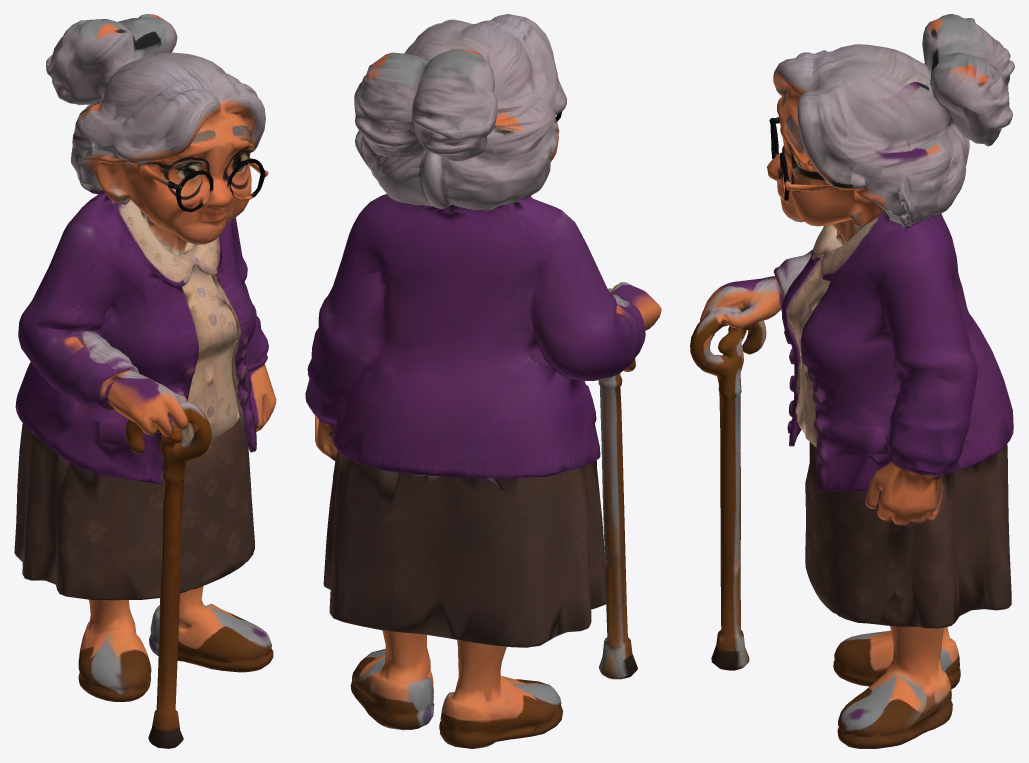
The model's file is abuela.glb.
3 renders of one model, left to right at view 1: azimuth 30°, elevation 25°; view 2: azimuth 150°, elevation 25°; view 3: azimuth 270°, elevation 25°, orthographic. The views are drawn at different scales.
Visible parts, largest first — view 1: tripo_node_8e51a7fc-c925-461b-a8a4-e979ae04d4a0; view 2: tripo_node_8e51a7fc-c925-461b-a8a4-e979ae04d4a0; view 3: tripo_node_8e51a7fc-c925-461b-a8a4-e979ae04d4a0.
Boxes of the visible parts, x1,y1,x2,y2 form: tripo_node_8e51a7fc-c925-461b-a8a4-e979ae04d4a0: [14, 14, 276, 748]; tripo_node_8e51a7fc-c925-461b-a8a4-e979ae04d4a0: [305, 14, 661, 748]; tripo_node_8e51a7fc-c925-461b-a8a4-e979ae04d4a0: [690, 14, 1014, 748].
Bounding box in the file's own units: 0.4232 × 0.9995 × 0.441.
Materials: 1 (1 with a texture image).
